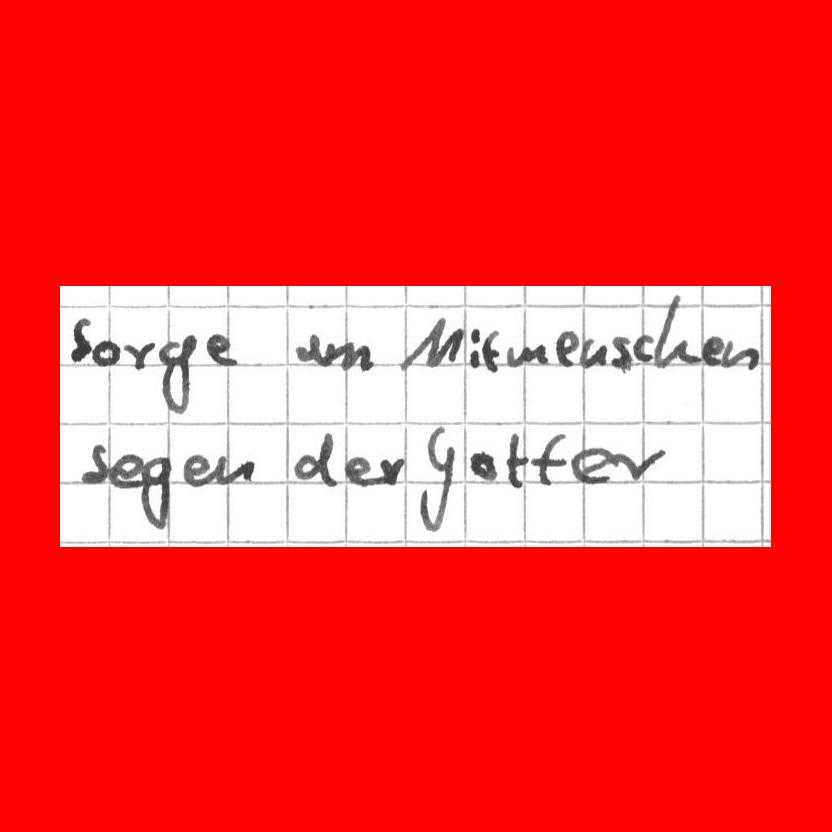Char: (416, 425, 459, 534), (399, 314, 463, 374), (650, 293, 699, 368), (157, 333, 197, 417), (288, 429, 340, 489), (608, 445, 669, 484), (139, 453, 171, 527), (534, 428, 566, 487), (568, 444, 611, 486), (504, 427, 530, 491), (106, 450, 145, 488), (721, 334, 761, 370), (336, 337, 377, 372), (66, 314, 94, 364), (215, 454, 256, 485), (206, 331, 240, 368), (292, 328, 325, 366), (179, 451, 214, 486), (505, 340, 547, 369), (479, 324, 503, 374), (551, 327, 580, 368), (82, 440, 109, 484), (122, 339, 155, 371), (343, 453, 374, 487), (89, 337, 122, 367), (578, 335, 608, 368), (470, 448, 500, 481), (609, 331, 632, 370), (701, 334, 725, 368), (379, 456, 405, 485), (633, 329, 654, 364), (467, 324, 482, 369)
